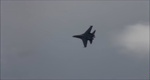maybay_muctieu: (72, 25, 98, 51)
